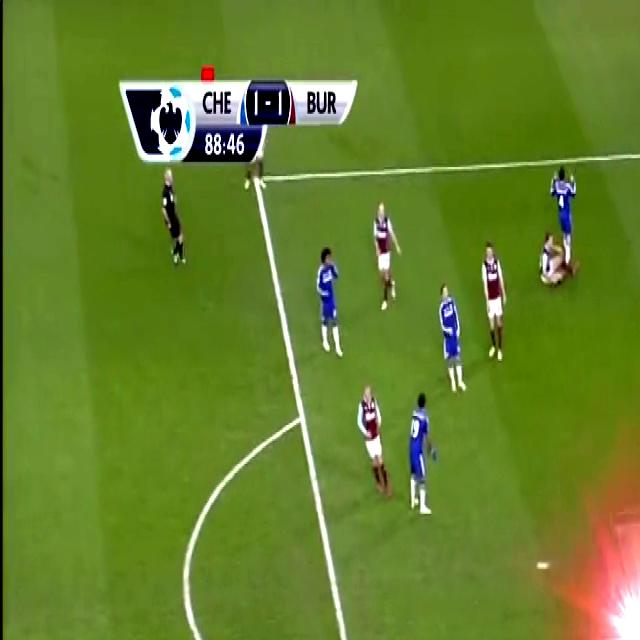referee: (158, 160, 192, 276)
soccer-player: (468, 229, 510, 371), (544, 149, 585, 284), (403, 384, 442, 522), (369, 192, 409, 322), (358, 377, 398, 506), (430, 271, 470, 399), (312, 235, 351, 366), (539, 219, 568, 290)
